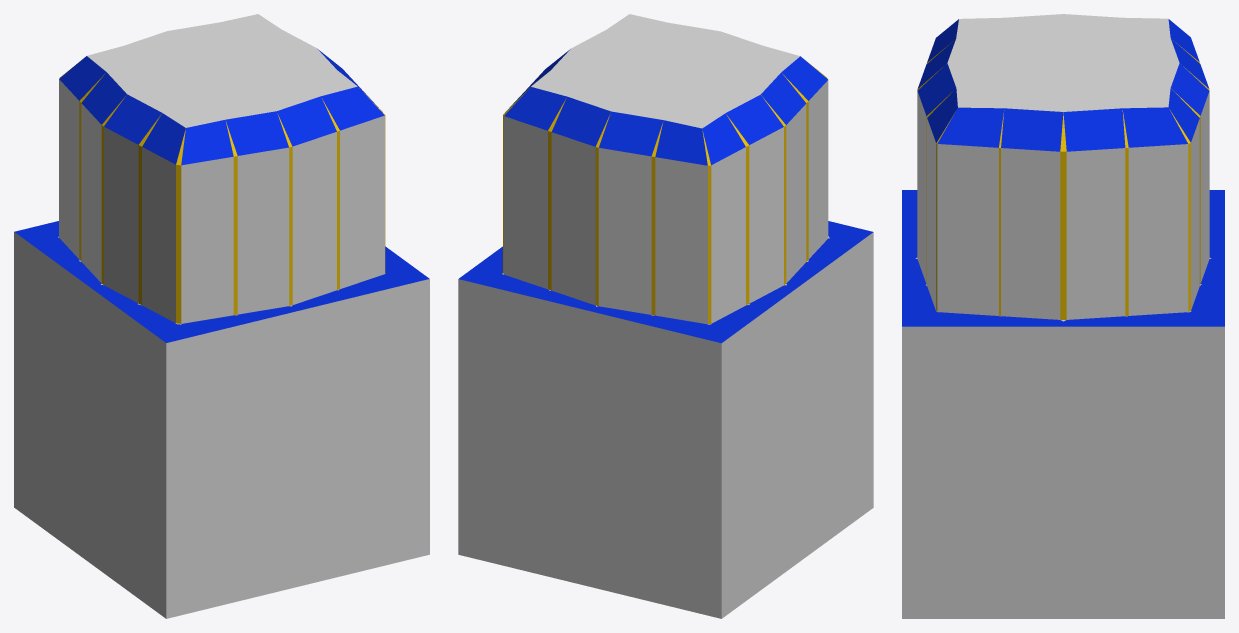
File: Pole1.fbx
The picture shows the model from 3 angles, left to right: view 1: azimuth 30°, elevation 25°; view 2: azimuth 150°, elevation 25°; view 3: azimuth 270°, elevation 25°; orthographic projection. The views are drawn at different scales.
Visible parts, largest first — view 1: Pole1; view 2: Pole1; view 3: Pole1.
Part boxes in pixels (x1=…): Pole1: x1=14, y1=14, x2=429, y2=618; Pole1: x1=458, y1=14, x2=873, y2=618; Pole1: x1=902, y1=14, x2=1224, y2=618.
Size of the model in its own units: 200 by 334 by 200.
